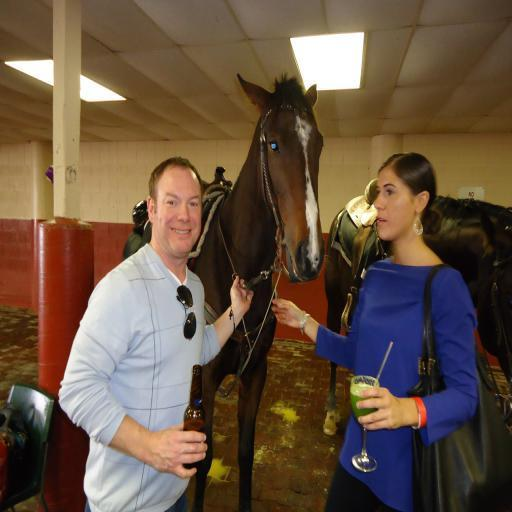horse: (122, 71, 324, 512), (320, 198, 512, 439)
